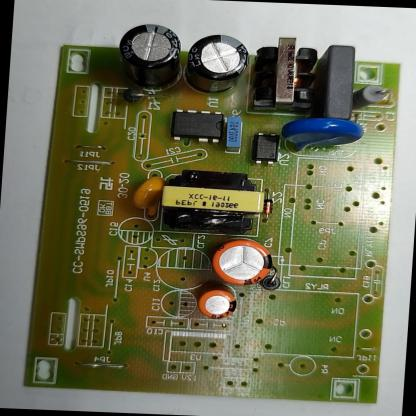Cap1: (206, 235, 274, 287)
Cap2: (194, 283, 239, 321)
Cap3: (178, 30, 254, 98)
Cap4: (114, 18, 186, 92)
MOSFET: (169, 106, 226, 146)
Mov: (278, 114, 367, 157)
Resistor: (348, 81, 391, 115)
Transformer: (141, 167, 271, 237)
